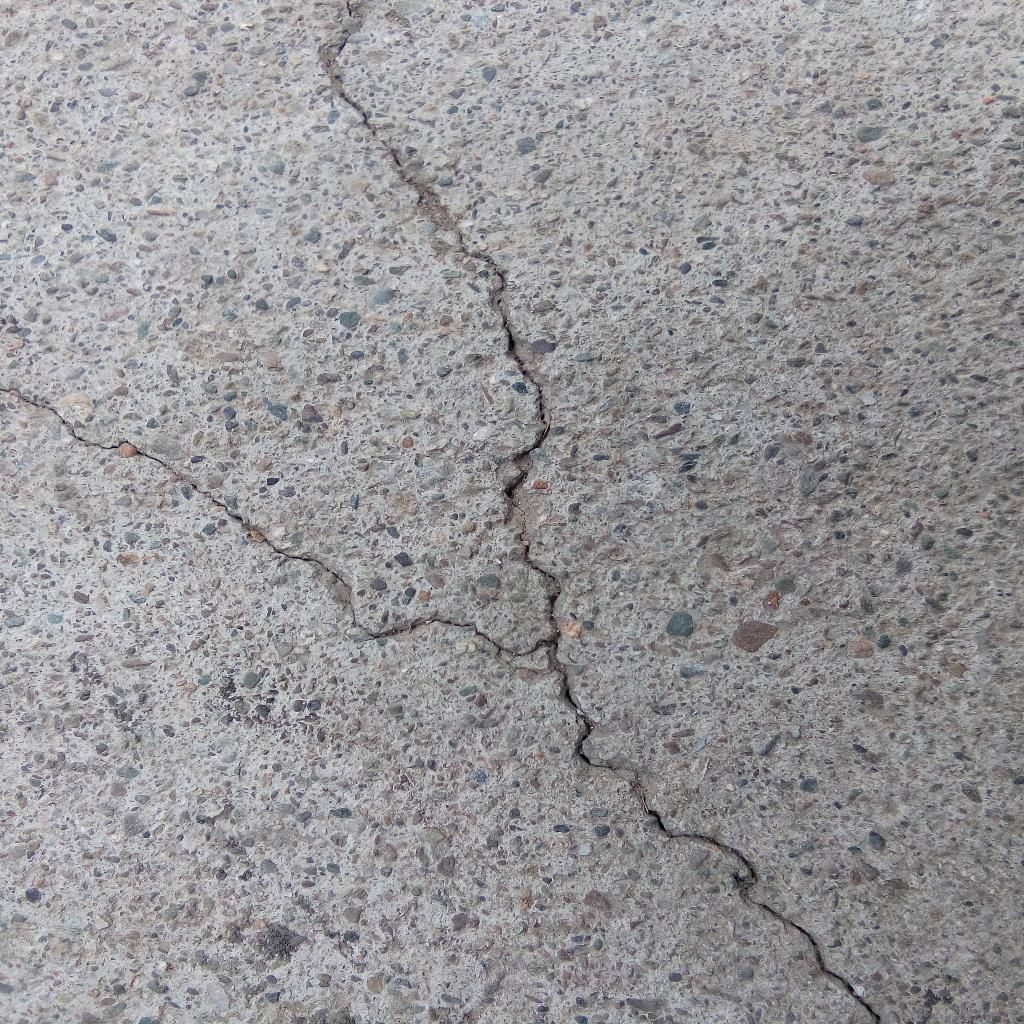Crack: (1, 387, 549, 658), (333, 1, 562, 639), (549, 639, 883, 1024)
